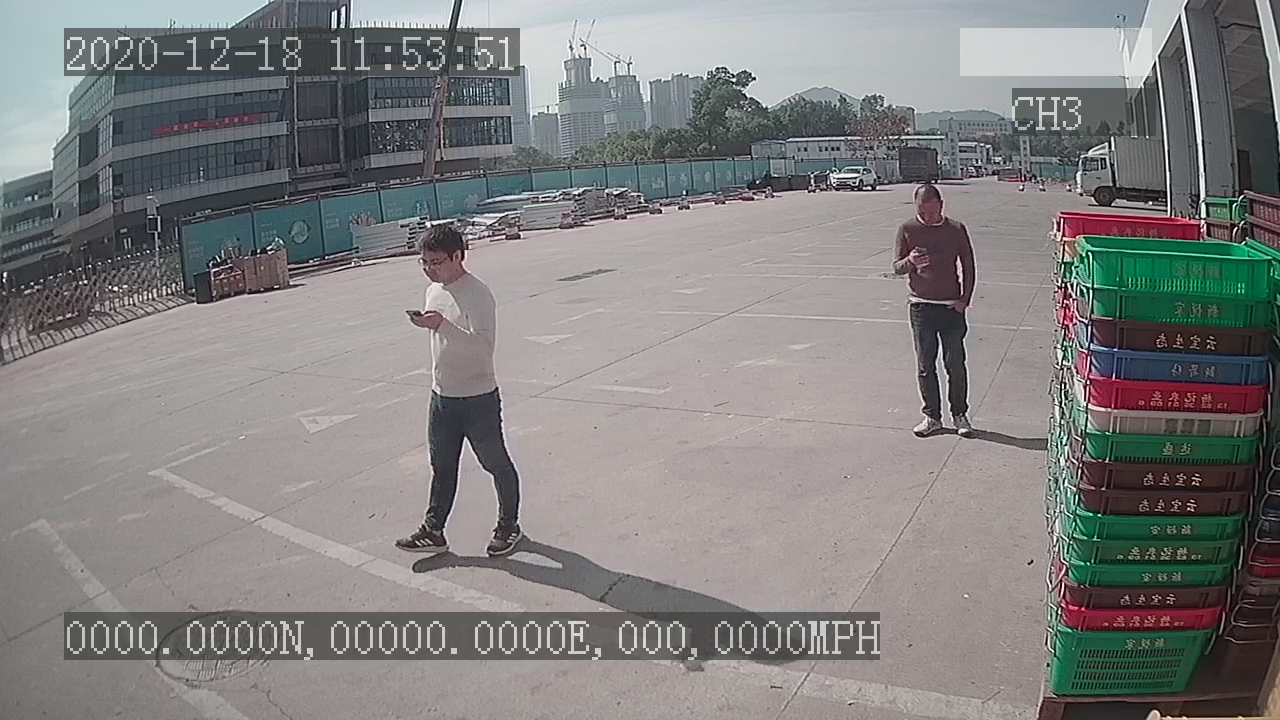person: (392, 220, 527, 567), (886, 179, 984, 451)
